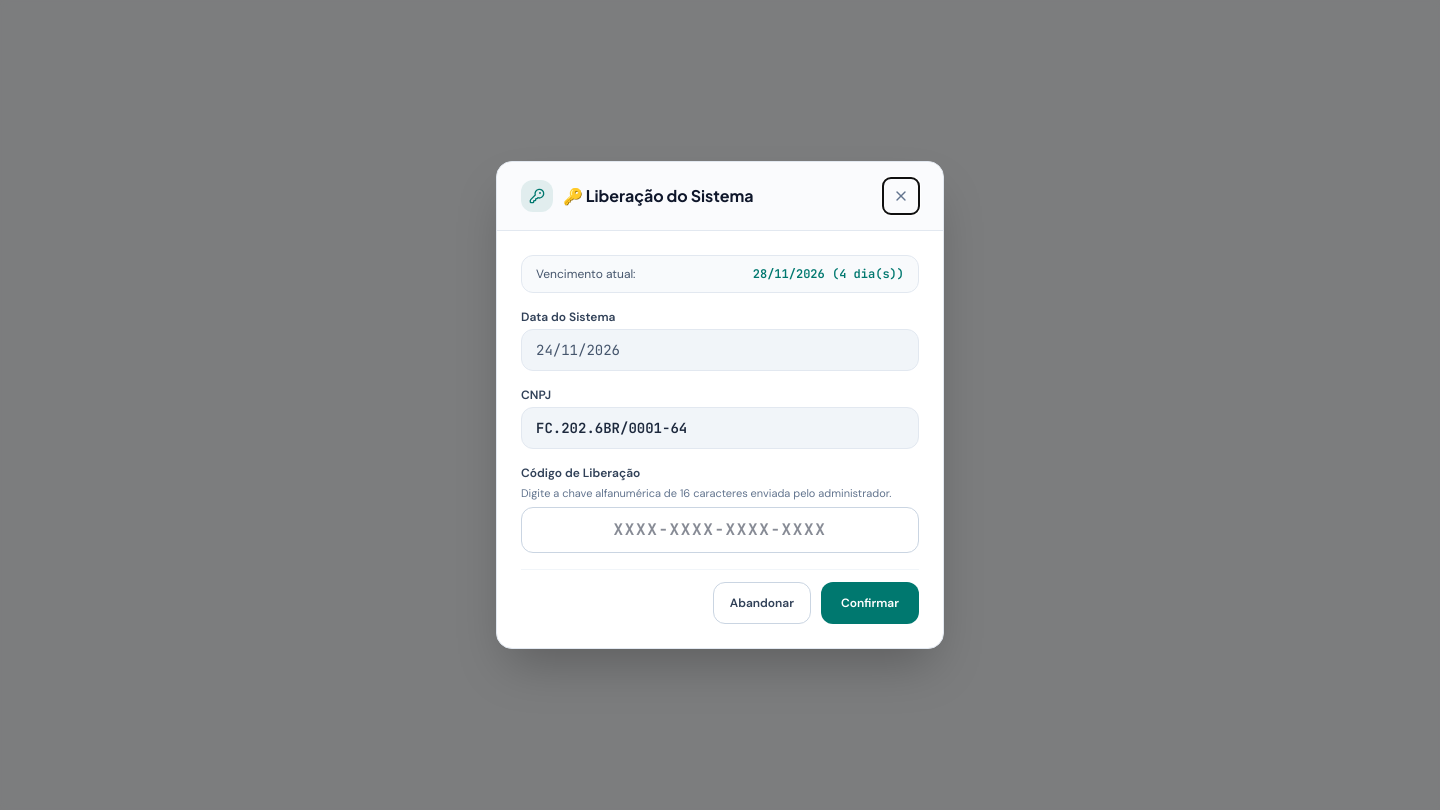
Test: SystemReleaseModal & Gestão Master de Licenças (Fase 10.2) › renderiza a tela de Liberação do Sistema com Data do Sistema formatada, CNPJ ativo e máscara do código
This screenshot has width=1440, height=810.
expect the heading "🔑 Liberação do Sistema" is shown: met, box [563,184,754,208]
expect the field with test id "system-date-input" holds "24/11/2026": met, box [521,329,919,371]
# Testa máscara automática em maiúsculas no campo de código
Type "a1b2c3d4e5f6g7h8" into the field with test id "release-code-input".
click(720, 530); type("a1b2c3d4e5f6g7h8")  # box [521,507,919,553]
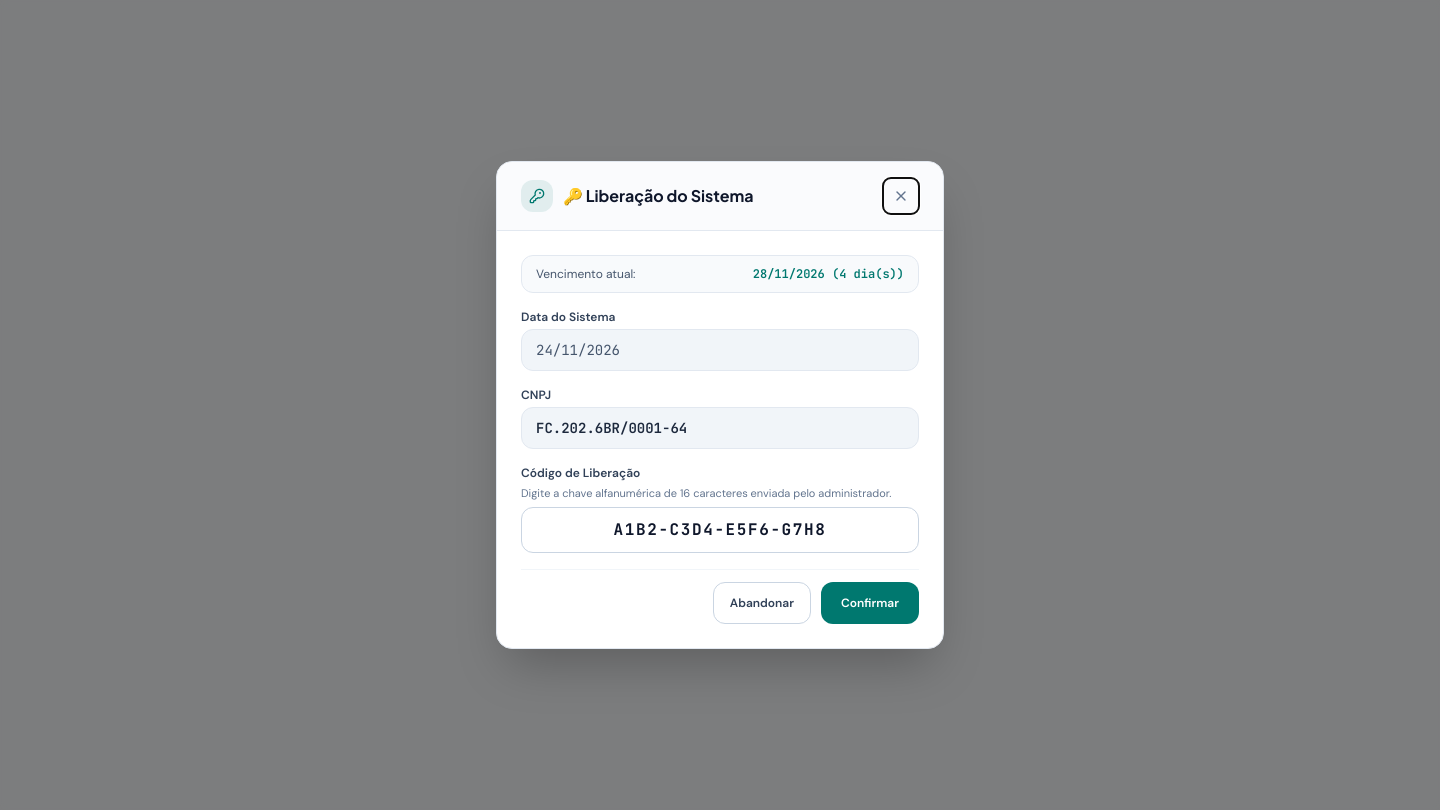
expect the button with test id "release-modal-close-x" is shown: met, box [883,178,919,214]
expect the field with test id "release-code-input" holds "A1B2-C3D4-E5F6-G7H8": met, box [521,507,919,553]
